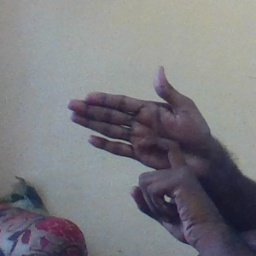R: (68, 65, 211, 210)
